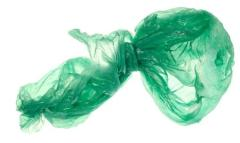plastic: (16, 7, 234, 134)
